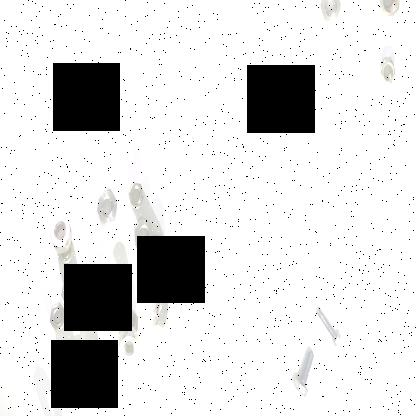Bolts: (314, 294, 344, 350), (291, 344, 321, 398)
NUTS: (46, 209, 72, 256), (94, 180, 118, 226), (131, 210, 153, 256), (150, 288, 170, 336), (94, 262, 114, 310), (115, 324, 140, 362), (61, 272, 82, 312), (124, 178, 145, 210), (61, 341, 80, 376), (118, 307, 140, 337), (378, 52, 397, 86), (82, 338, 103, 368), (47, 301, 66, 333), (76, 362, 96, 392), (146, 231, 166, 261), (374, 0, 401, 22), (319, 0, 341, 23), (57, 238, 75, 266)
